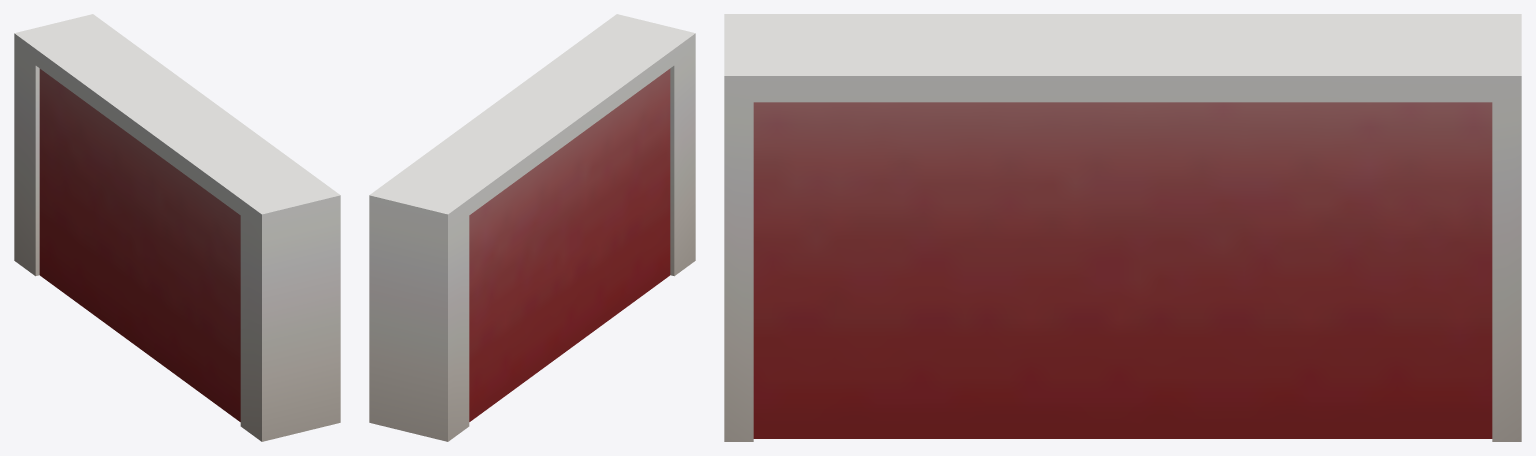
The model's file is M_WallColored_02.fbx.
3 views of the same model, side by side, from view 1: azimuth 30°, elevation 25°; view 2: azimuth 150°, elevation 25°; view 3: azimuth 270°, elevation 25° (orthographic). The views are drawn at different scales.
Parts seen in each view (by area): view 1: M_WallColored_02; view 2: M_WallColored_02; view 3: M_WallColored_02.
Part boxes in pixels (bbox=[...]): M_WallColored_02: bbox=[14, 14, 340, 441]; M_WallColored_02: bbox=[369, 14, 695, 441]; M_WallColored_02: bbox=[724, 14, 1521, 441].
Size of the model in its own units: 150 by 414 by 816.
1 material, 1 textured.
